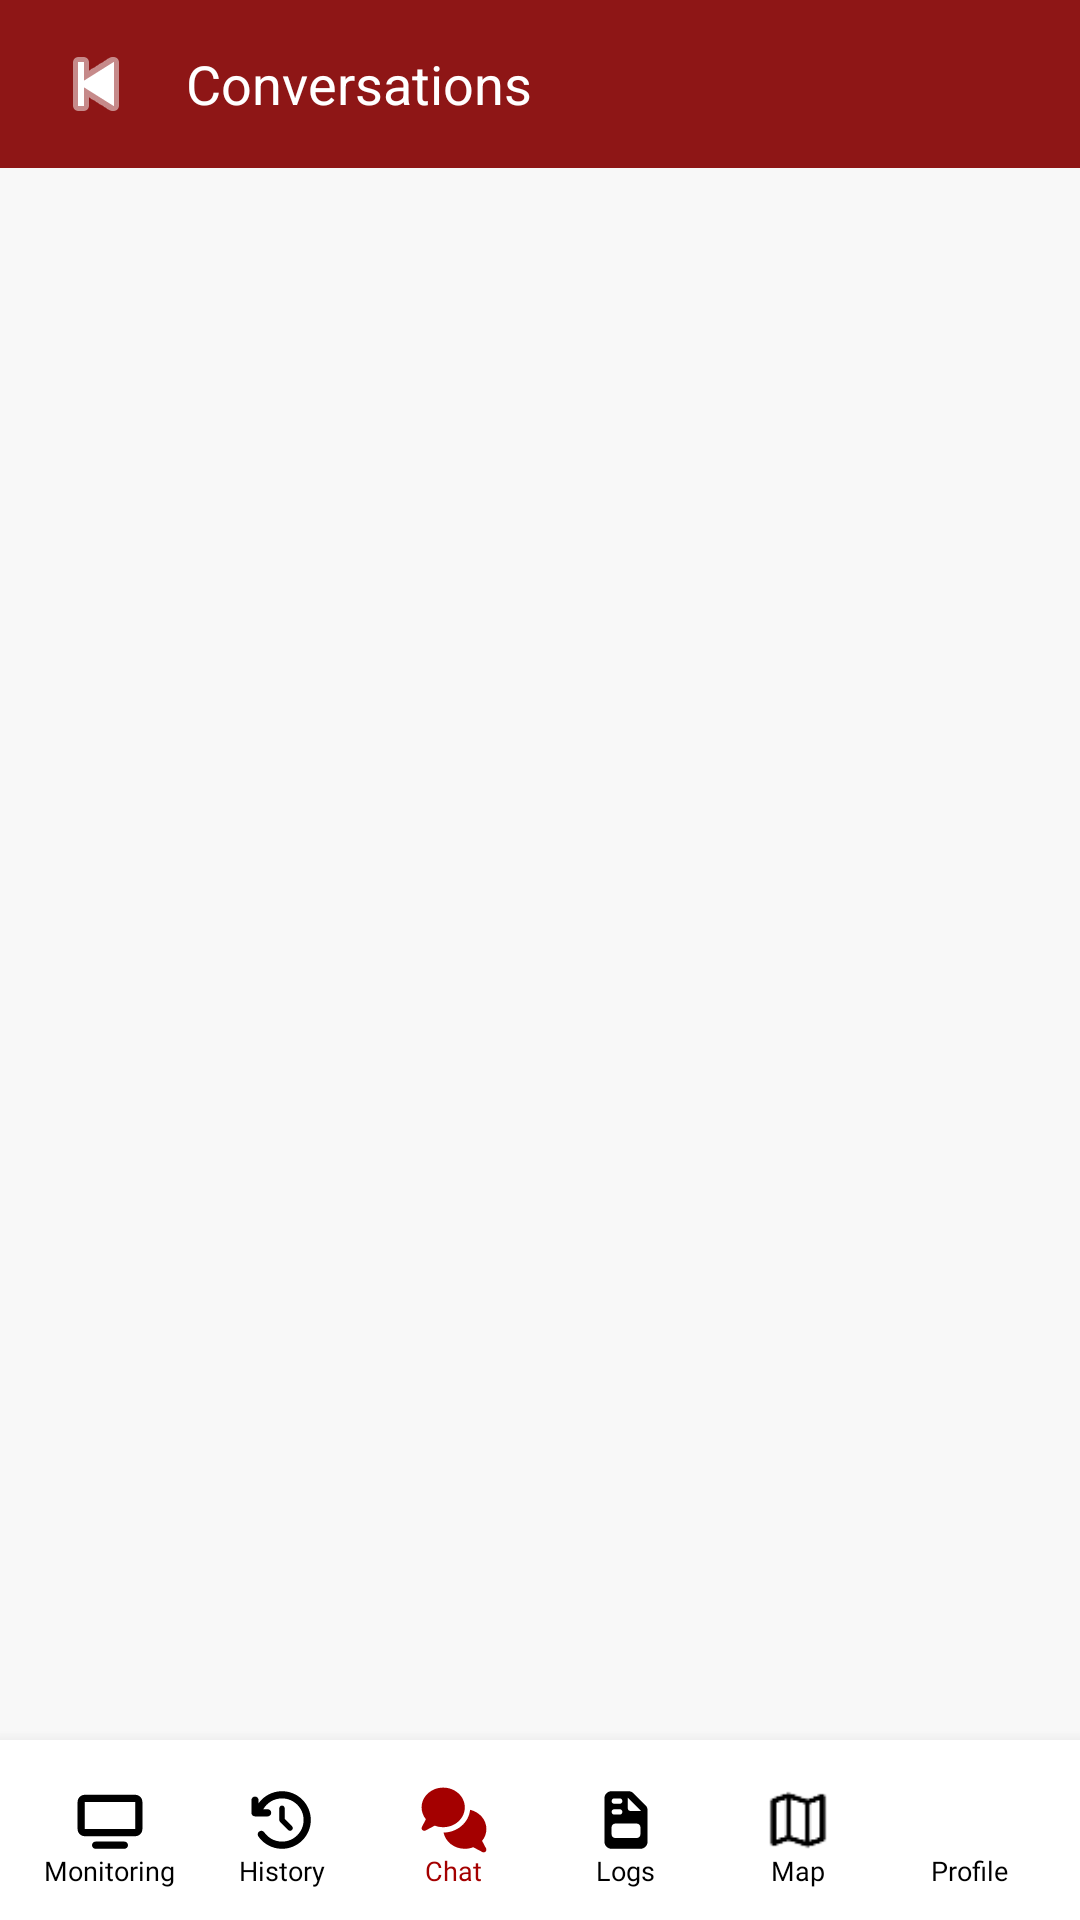

Icons on this 1080*1920 Android screen, each with its box as [x1,y1,x2,y2]:
live: [77,1794,143,1849]
previous: [73,57,119,111]
